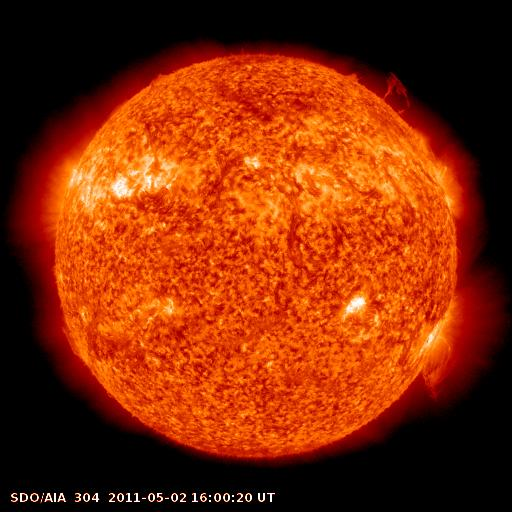prominence: (417, 335, 462, 408), (378, 63, 418, 121), (52, 319, 91, 367), (340, 61, 367, 93)
